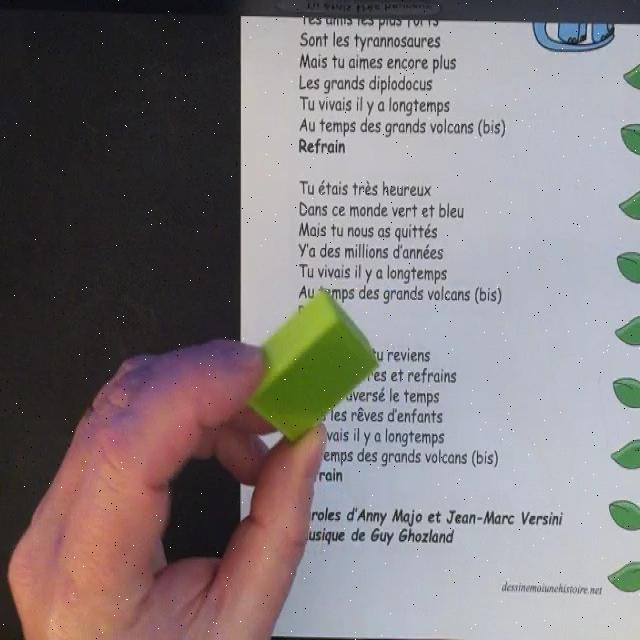square: (234, 289, 380, 442)
